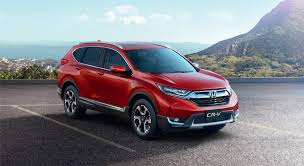car: (52, 35, 254, 145)
